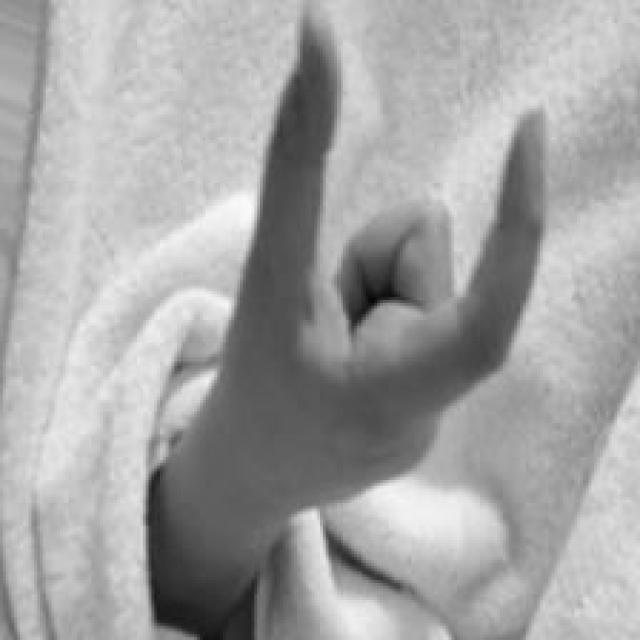U: (239, 1, 549, 544)
